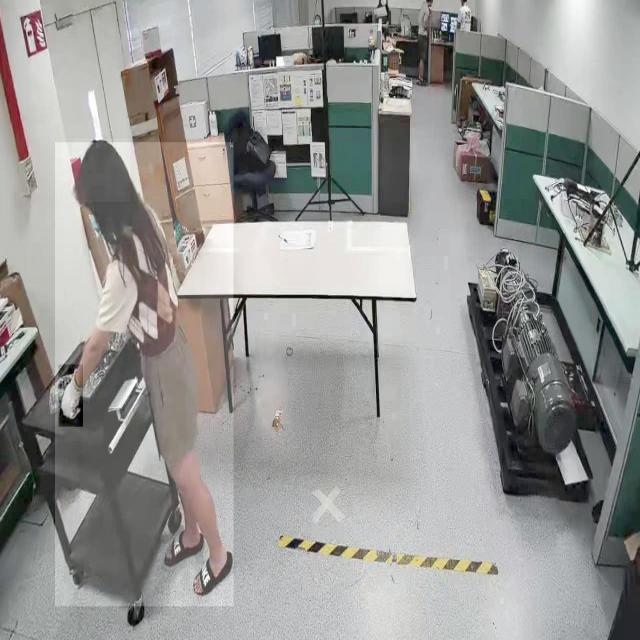hand_glove: (58, 364, 84, 428)
head_nohelmet: (73, 138, 131, 202)
person: (55, 142, 234, 607)
